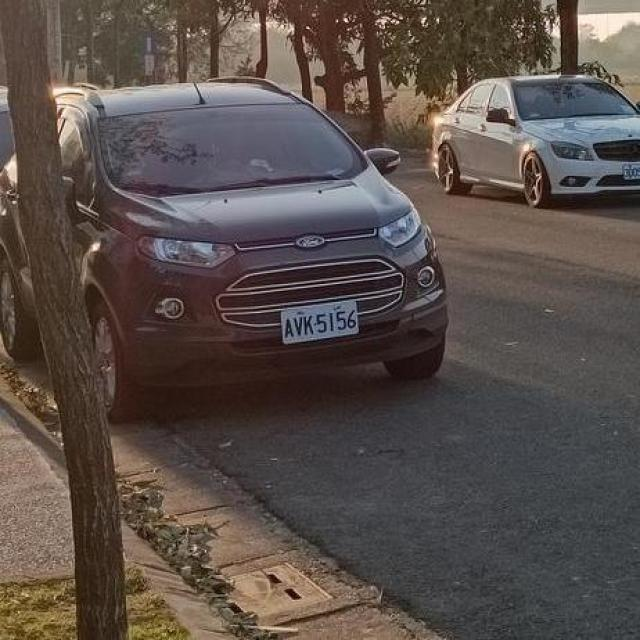W: (277, 298, 362, 345), (619, 158, 640, 180)
